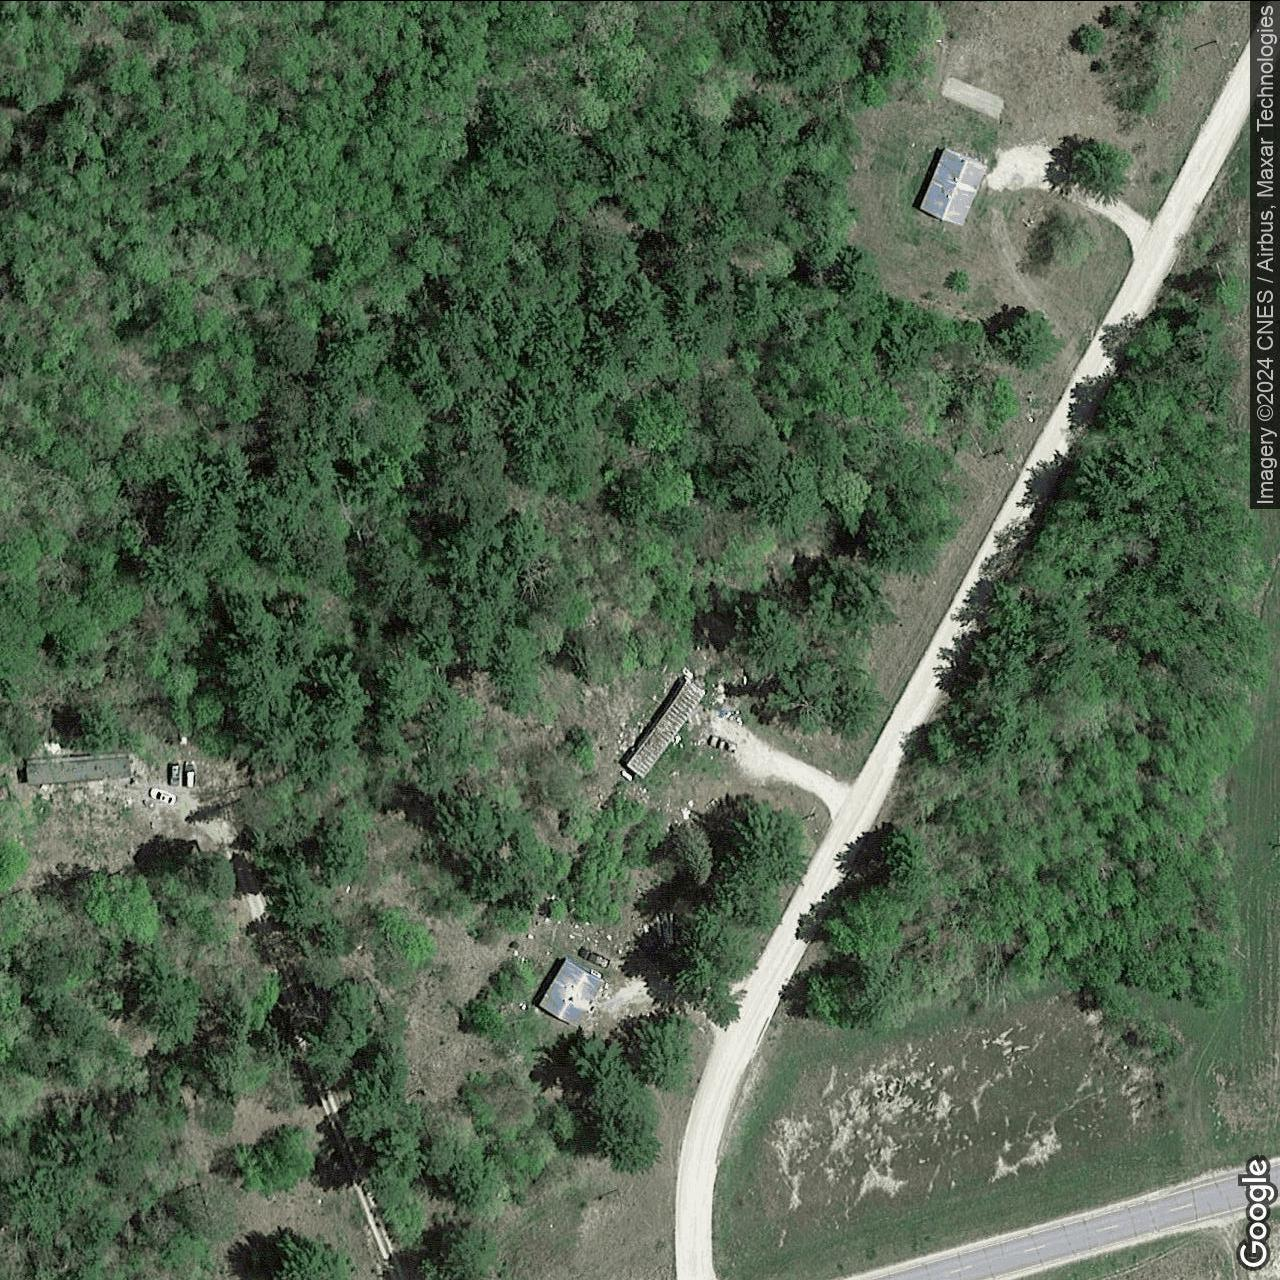House: (918, 145, 990, 227), (538, 955, 605, 1028)
Propane: (617, 767, 634, 783)
Trailer: (625, 678, 706, 778), (23, 751, 131, 787)
